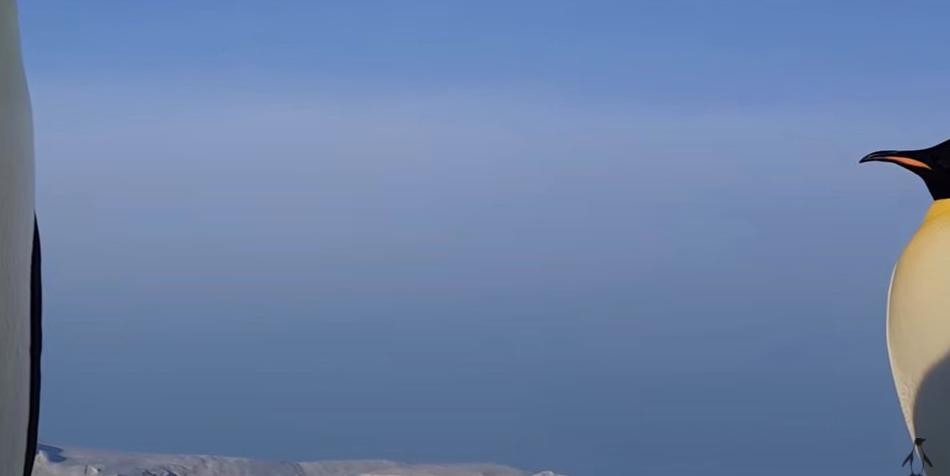Emperor Penguin: (0, 0, 175, 475), (796, 120, 950, 448)
